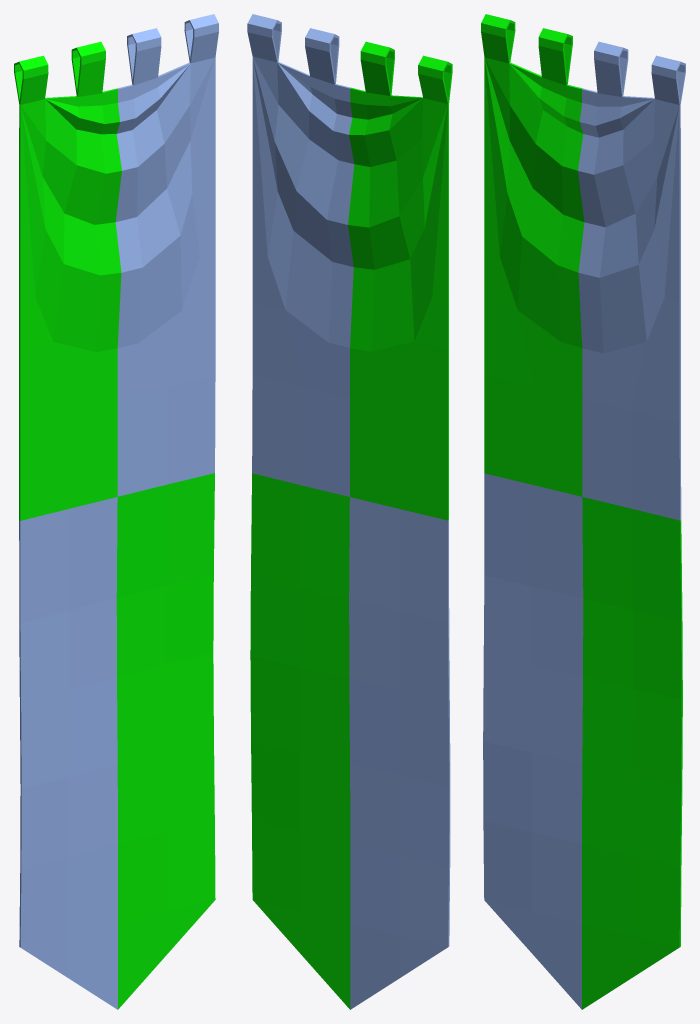
File: SM_Flag_Banner_Big_E_Fantasy.fbx
3 renders of one model, left to right at view 1: azimuth 30°, elevation 25°; view 2: azimuth 150°, elevation 25°; view 3: azimuth 330°, elevation 25°, orthographic.
Visible parts, largest first — view 1: flag-banner-big-e-fantasy; view 2: flag-banner-big-e-fantasy; view 3: flag-banner-big-e-fantasy.
Boxes of the visible parts, x1,y1,x2,y2 form: flag-banner-big-e-fantasy: [14, 14, 218, 1009]; flag-banner-big-e-fantasy: [247, 14, 452, 1009]; flag-banner-big-e-fantasy: [481, 14, 685, 1009].
Bounding box in the file's own units: 0.9569 × 4.55 × 0.0886.
